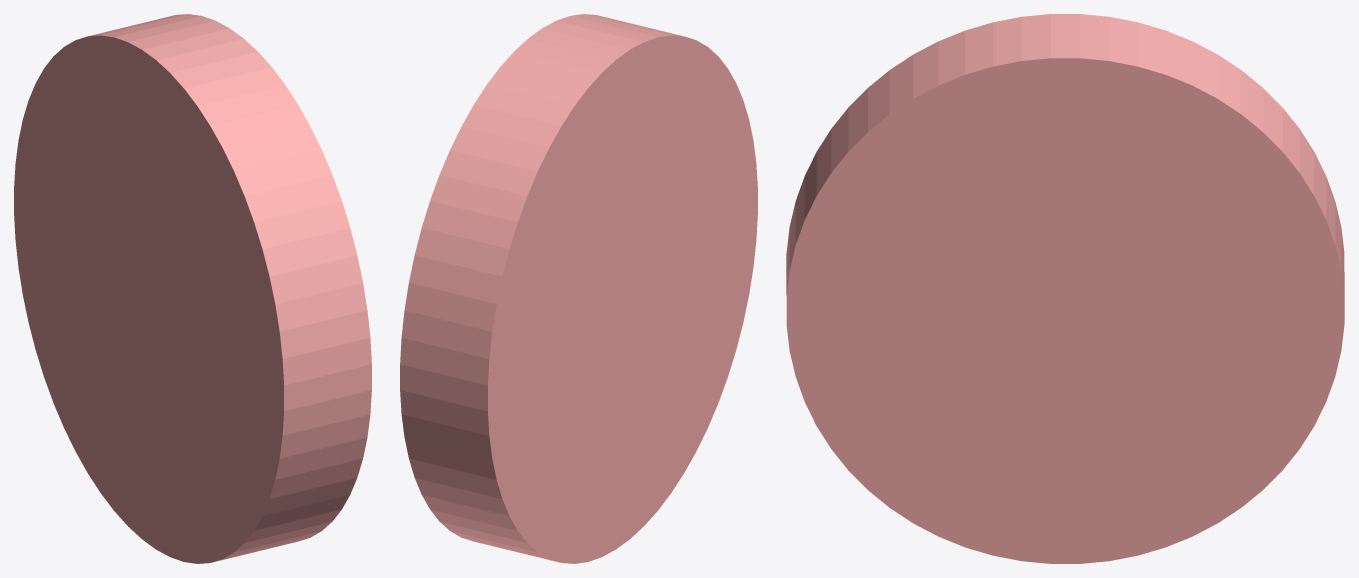
File: flywheel_flywheel__37__.dae
3 views of the same model, side by side, from view 1: azimuth 30°, elevation 25°; view 2: azimuth 150°, elevation 25°; view 3: azimuth 270°, elevation 25° (orthographic). The views are drawn at different scales.
Parts seen in each view (by area): view 1: Node_0x7f5228fcb300; view 2: Node_0x7f5228fcb300; view 3: Node_0x7f5228fcb300.
Boxes of the visible parts, left/top/right/bottom form: Node_0x7f5228fcb300: left=14, top=14, right=371, bottom=563; Node_0x7f5228fcb300: left=400, top=14, right=757, bottom=563; Node_0x7f5228fcb300: left=786, top=14, right=1344, bottom=563.
Size of the model in its own units: 0.03 by 0.1598 by 0.1598.
